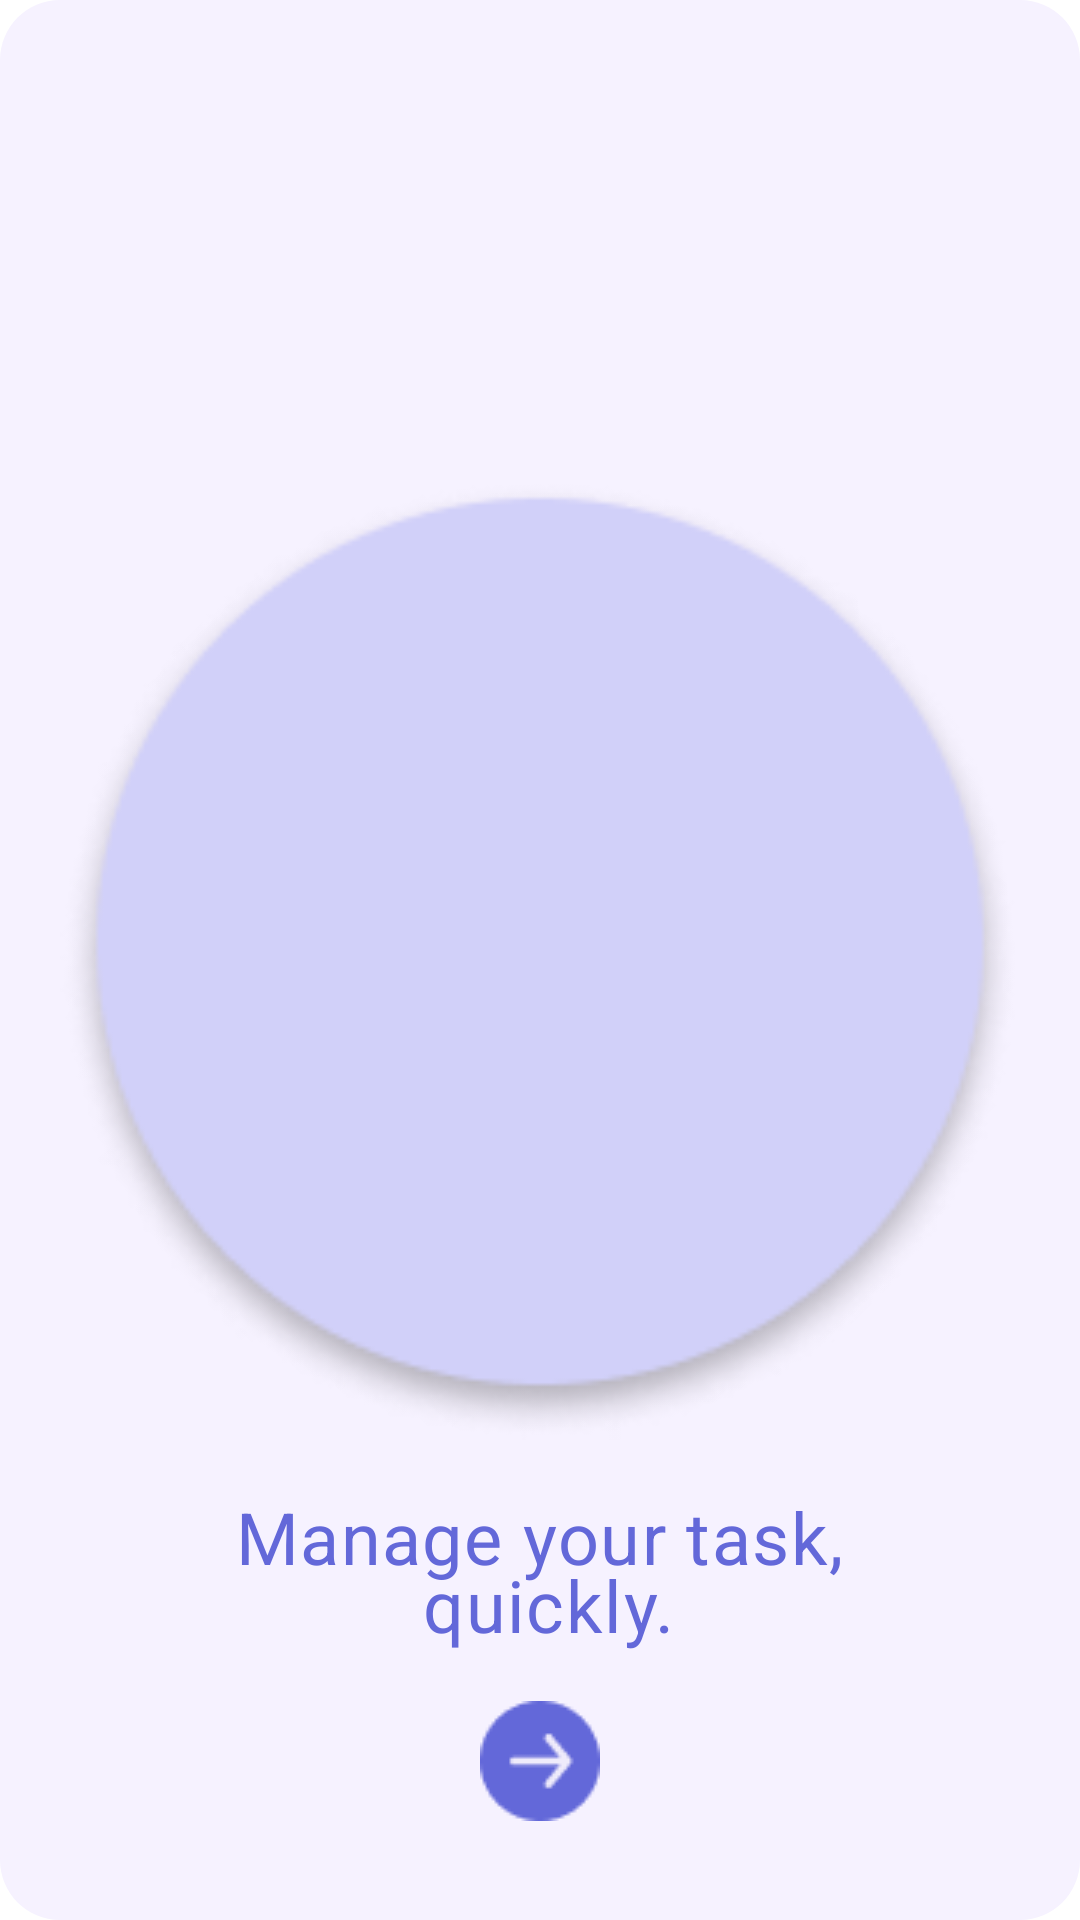

Locate icon controls on the screen. Image size 1080 x 1920, boxes as Rect(x1, y1, x2, y2).
arrow: Rect(480, 1701, 600, 1821)
